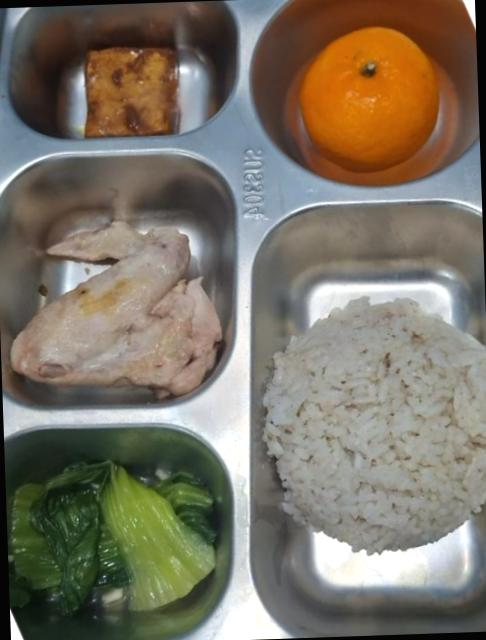ayam: (10, 223, 220, 398)
buah: (298, 27, 438, 172)
nasi: (263, 298, 485, 554)
sayur: (6, 461, 216, 617)
tahu: (84, 48, 177, 137)
